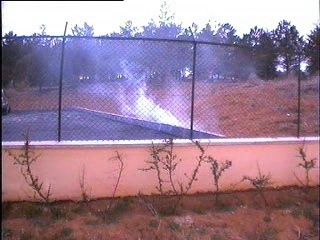smoke: (77, 41, 215, 126)
